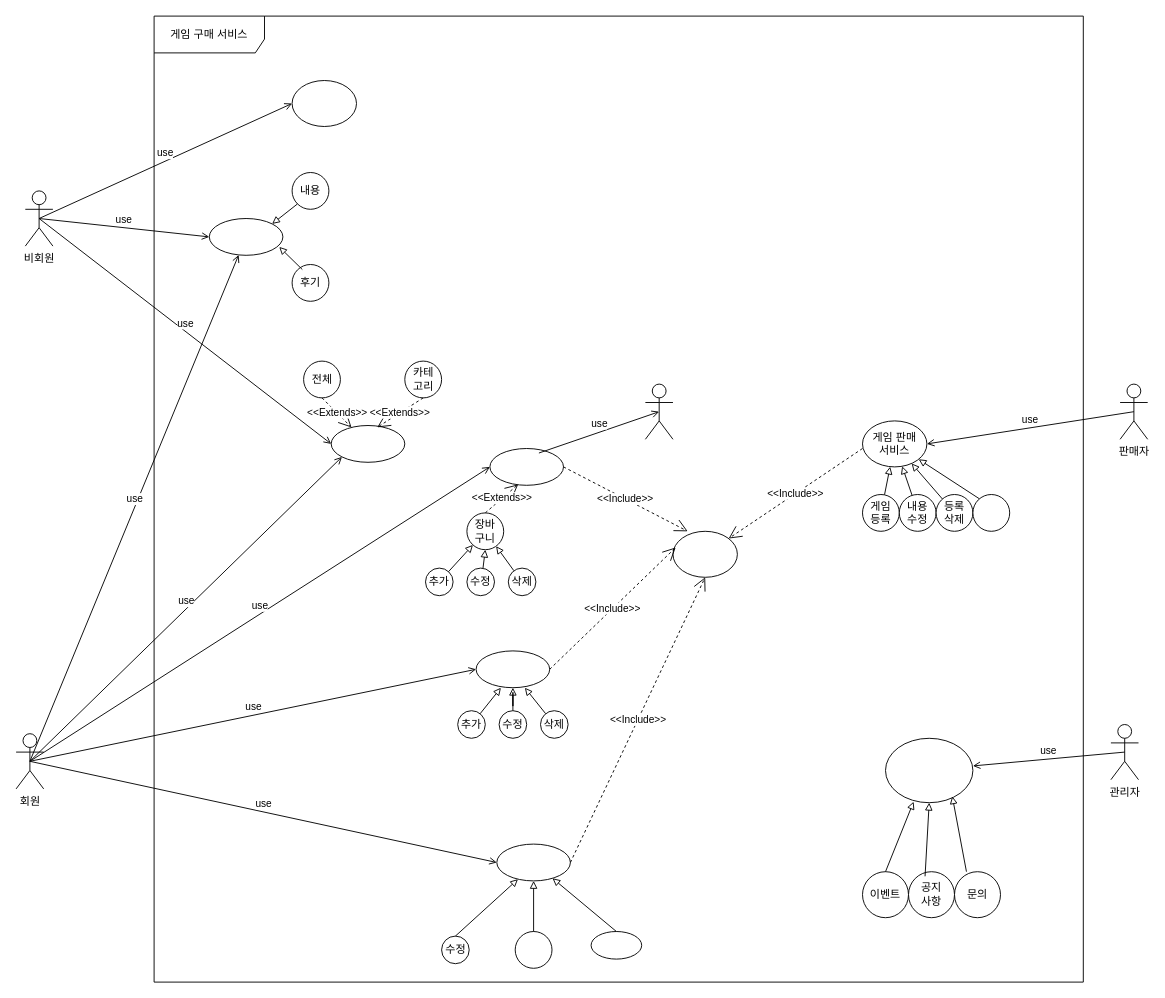
Image size: 1165x998. Some labels were removed from this diagram. Here are the shapes that lost their labels. From the top down, the box of each, then its label:
(291, 80, 356, 126): 회원가입
(208, 218, 283, 255): 게임 상세
(644, 383, 673, 439): 결제 시스템 API
(330, 425, 405, 462): 게임 검색
(489, 448, 564, 485): 게임 구매
(972, 494, 1010, 531): 등록 조회
(672, 530, 737, 577): 로그인
(475, 650, 550, 688): 게시판
(885, 737, 973, 803): 관리자 게시판
(496, 843, 570, 881): 마이페이지
(514, 931, 552, 968): 북마크
(590, 931, 642, 959): 회원 탈퇴
